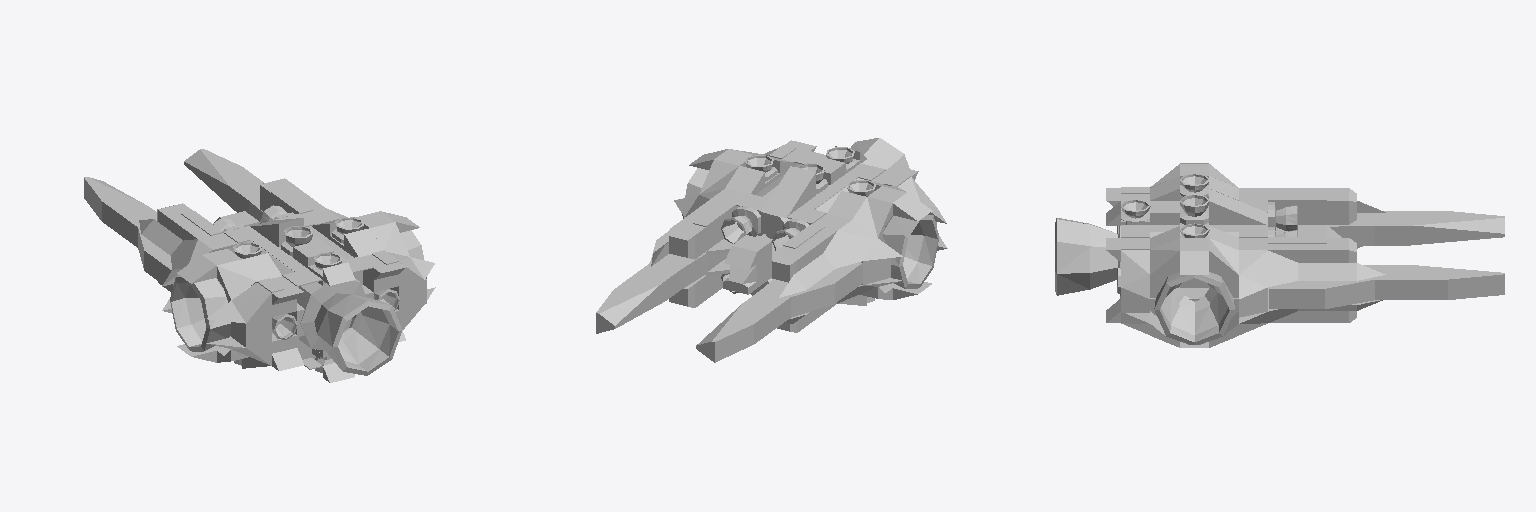
The model's file is Wasp Ship_LIVE.obj.
3 views of the same model, side by side, from view 1: azimuth 30°, elevation 25°; view 2: azimuth 150°, elevation 25°; view 3: azimuth 270°, elevation 25° (orthographic).
Visible parts, largest first — view 1: Shell.001, Thruster_2, Guns?, Thruster_2.006, 1x1_block.005, Missile_Module, 1x1_block, Thruster_2.001, Core.001, Thruster_2.007, Thruster_2.008, Thruster_2.002; view 2: Shell.001, Guns?, Missile_Module, Thruster_2.006, Thruster_2.002, Thruster_2, COCKpit, Thruster_2.007; view 3: Shell.001, Guns?, Thruster_2.006, Thruster_2, Missile_Module, Thruster_2.007, Thruster_2.002, Thruster_2.008, Thruster_2.005.
Boxes of the visible parts, <box> form: Shell.001: <box>139,189,435,382</box>; Thruster_2: <box>297,279,401,375</box>; Guns?: <box>84,149,263,290</box>; Thruster_2.006: <box>170,230,426,351</box>; 1x1_block.005: <box>231,280,424,347</box>; Missile_Module: <box>157,178,309,292</box>; 1x1_block: <box>271,254,398,353</box>; Thruster_2.001: <box>272,289,399,339</box>; Core.001: <box>243,226,362,359</box>; Thruster_2.007: <box>233,217,363,258</box>; Thruster_2.008: <box>281,226,312,256</box>; Thruster_2.002: <box>213,205,294,231</box>; Shell.001: <box>651,140,947,323</box>; Guns?: <box>596,230,862,362</box>; Missile_Module: <box>669,210,822,332</box>; Thruster_2.006: <box>682,168,938,288</box>; Thruster_2.002: <box>721,206,808,250</box>; Thruster_2: <box>850,138,909,169</box>; COCKpit: <box>723,259,764,294</box>; Thruster_2.007: <box>745,155,875,196</box>; Shell.001: <box>1106,163,1385,347</box>; Guns?: <box>1269,211,1504,308</box>; Thruster_2.006: <box>1150,195,1238,344</box>; Thruster_2: <box>1055,218,1120,295</box>; Missile_Module: <box>1298,188,1356,322</box>; Thruster_2.007: <box>1180,174,1209,237</box>; Thruster_2.002: <box>1268,202,1297,236</box>; Thruster_2.008: <box>1180,195,1208,224</box>; Thruster_2.005: <box>1121,200,1150,224</box>.
Size of the model in its own units: 22.5 by 11.42 by 38.17.